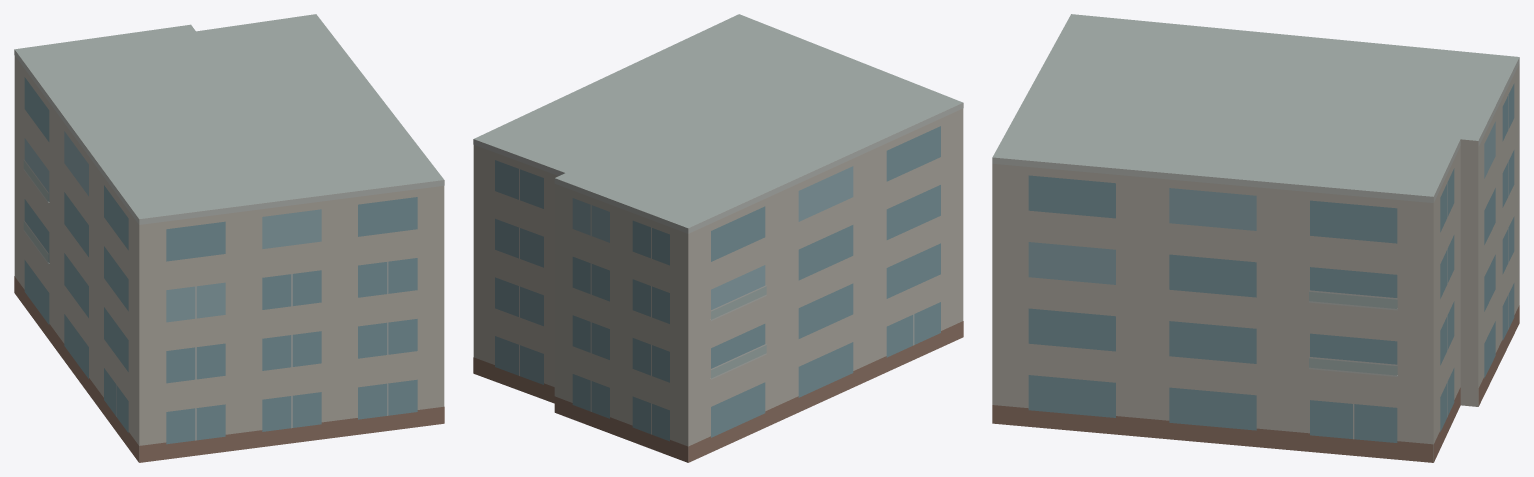
Rendered from survey-upis-32944754.glb.
3 views of the same model, side by side, from view 1: azimuth 30°, elevation 25°; view 2: azimuth 150°, elevation 25°; view 3: azimuth 270°, elevation 25° (orthographic). The views are drawn at different scales.
Parts seen in each view (by area): view 1: survey-upis-32944754.tmp; view 2: survey-upis-32944754.tmp; view 3: survey-upis-32944754.tmp.
Part boxes in pixels (x1,y1,x2,y2): survey-upis-32944754.tmp: [14, 14, 444, 462]; survey-upis-32944754.tmp: [473, 14, 963, 462]; survey-upis-32944754.tmp: [992, 14, 1519, 462].
Size of the model in its own units: 15.19 by 10.3 by 18.51.
